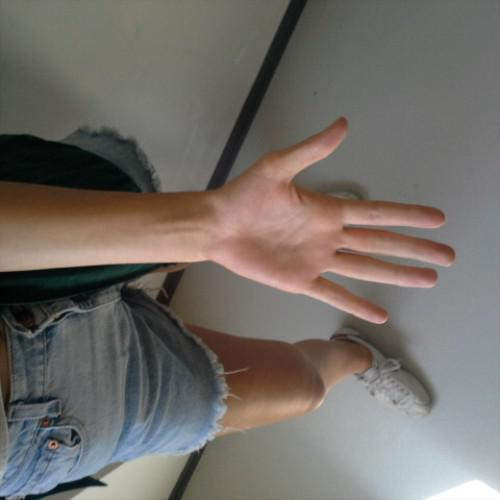paper: (205, 113, 461, 331)
